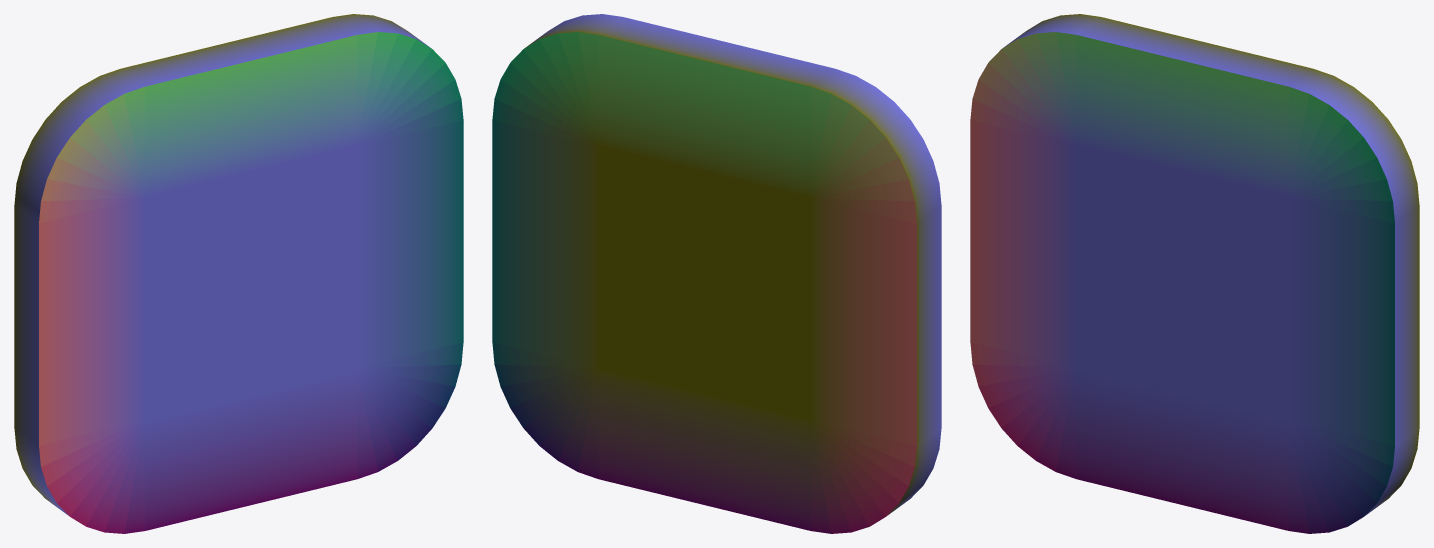
The model's file is MRTK_UIBackplate.fbx.
3 views of the same model, side by side, from view 1: azimuth 30°, elevation 25°; view 2: azimuth 150°, elevation 25°; view 3: azimuth 330°, elevation 25° (orthographic).
Parts seen in each view (by area): view 1: rounded_edge; view 2: rounded_edge; view 3: rounded_edge.
Boxes of the visible parts, left/top/right/bottom form: rounded_edge: left=14, top=14, right=463, bottom=533; rounded_edge: left=492, top=14, right=941, bottom=533; rounded_edge: left=970, top=14, right=1419, bottom=533.
Bounding box in the file's own units: 1 × 1 × 0.1.
